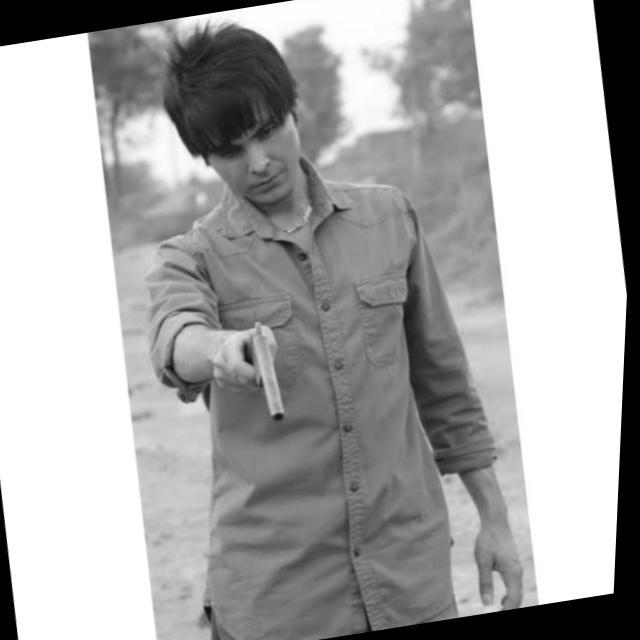weapon: (229, 312, 306, 431)
